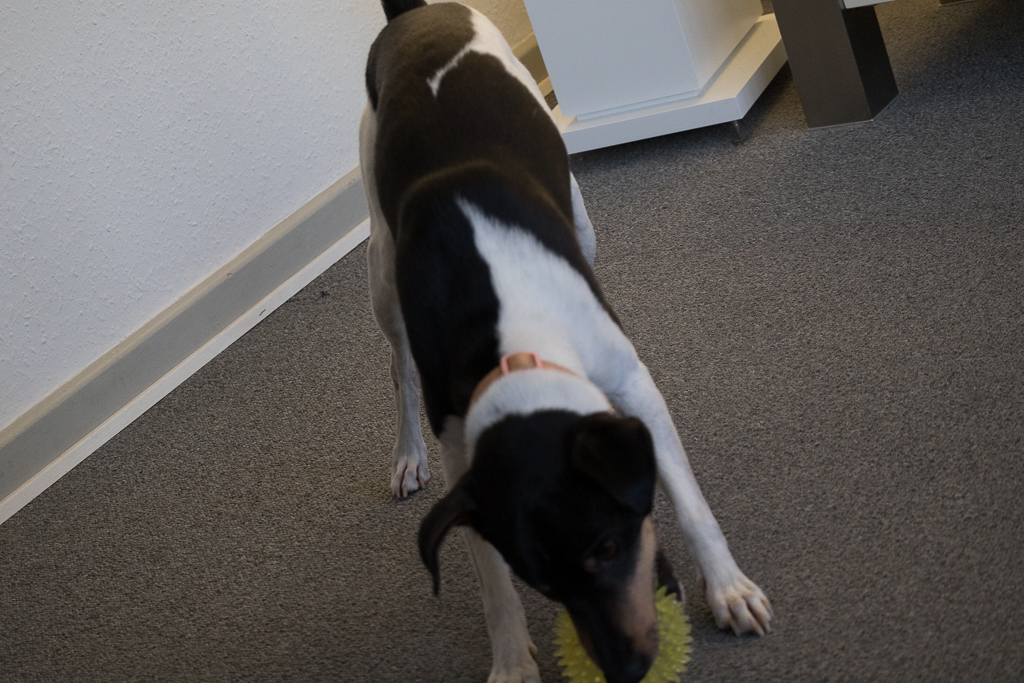Dog: (336, 0, 781, 683)
